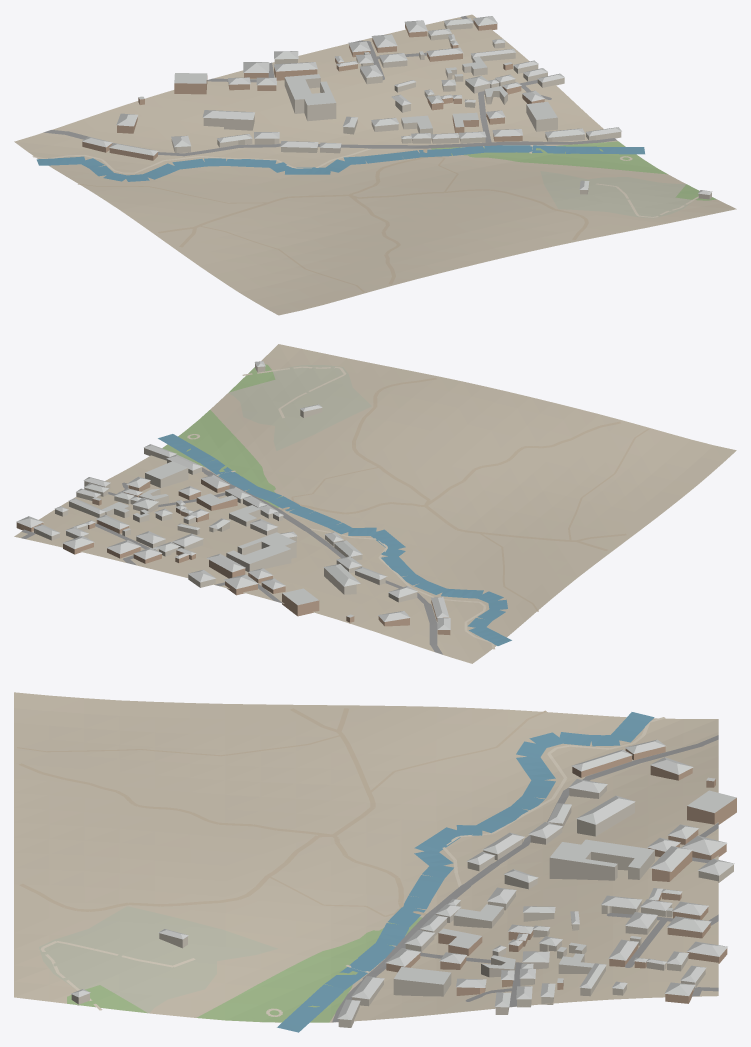
File: bolak_3_-6.glb
The picture shows the model from 3 angles, top to bottom: view 1: azimuth 30°, elevation 25°; view 2: azimuth 150°, elevation 25°; view 3: azimuth 270°, elevation 25°; orthographic projection. The views are drawn at different scales.
Parts seen in each view (by area): view 1: Yer_Tuproq-col, Tom_Shifer, Devor_Suvoq-col, Suv, Yer_Qabr, Devor_Gisht-col, Yer_Maysa, Yol_Mahalla-col, Yol_Tuproq, Yol_Piyoda; view 2: Yer_Tuproq-col, Tom_Shifer, Yer_Qabr, Devor_Suvoq-col, Suv, Yer_Maysa, Devor_Gisht-col, Yol_Tuproq, Yol_Mahalla-col, Yol_Piyoda; view 3: Yer_Tuproq-col, Tom_Shifer, Yer_Qabr, Devor_Suvoq-col, Suv, Yer_Maysa, Devor_Gisht-col, Yol_Tuproq, Yol_Mahalla-col, Yol_Piyoda.
Boxes of the visible parts, x1=… form: Yer_Tuproq-col: x1=14, y1=14, x2=736, y2=315; Tom_Shifer: x1=82, y1=16, x2=712, y2=194; Devor_Suvoq-col: x1=171, y1=22, x2=711, y2=199; Suv: x1=36, y1=145, x2=644, y2=181; Yer_Qabr: x1=540, y1=171, x2=691, y2=218; Devor_Gisht-col: x1=82, y1=20, x2=544, y2=160; Yer_Maysa: x1=431, y1=141, x2=716, y2=200; Yol_Mahalla-col: x1=43, y1=16, x2=616, y2=156; Yol_Tuproq: x1=78, y1=148, x2=588, y2=292; Yol_Piyoda: x1=32, y1=145, x2=698, y2=217; Yer_Tuproq-col: x1=14, y1=344, x2=736, y2=663; Tom_Shifer: x1=16, y1=361, x2=450, y2=629; Yer_Qabr: x1=228, y1=365, x2=371, y2=450; Devor_Suvoq-col: x1=34, y1=363, x2=417, y2=602; Suv: x1=158, y1=434, x2=511, y2=645; Yer_Maysa: x1=162, y1=364, x2=281, y2=507; Devor_Gisht-col: x1=16, y1=479, x2=450, y2=634; Yol_Tuproq: x1=280, y1=377, x2=649, y2=611; Yol_Mahalla-col: x1=21, y1=467, x2=442, y2=654; Yol_Piyoda: x1=187, y1=366, x2=494, y2=649; Yer_Tuproq-col: x1=14, y1=692, x2=718, y2=1022; Tom_Shifer: x1=71, y1=739, x2=736, y2=1019; Yer_Qabr: x1=39, y1=906, x2=277, y2=1013; Devor_Suvoq-col: x1=71, y1=785, x2=733, y2=1027; Suv: x1=277, y1=712, x2=654, y2=1032; Yer_Maysa: x1=67, y1=917, x2=422, y2=1022; Devor_Gisht-col: x1=386, y1=746, x2=736, y2=1003; Yol_Tuproq: x1=17, y1=708, x2=546, y2=916; Yol_Mahalla-col: x1=332, y1=735, x2=718, y2=1022; Yol_Piyoda: x1=40, y1=717, x2=665, y2=1016.
Size of what is drawn, in the model's own units: 419 by 26.59 by 410.
